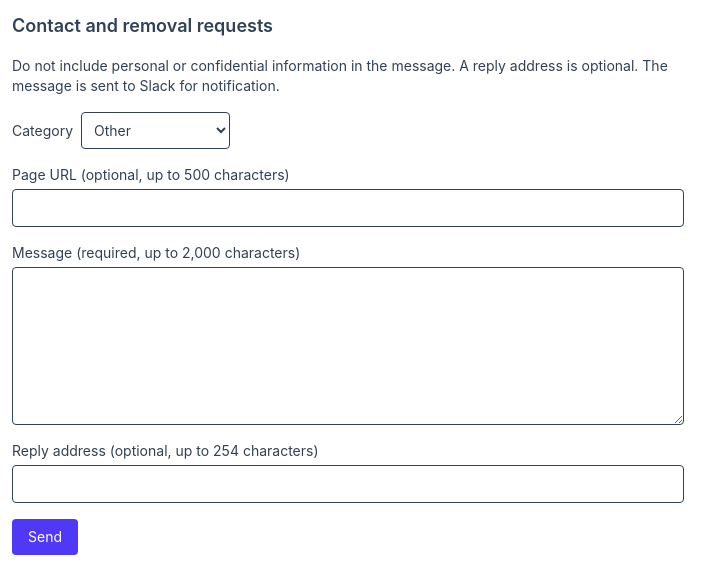
it: shows English contact consent and switches commands without changing their identity
Expected: the text "message is sent to Slack" is shown, [12, 57, 668, 94]
Step 1. Type "unsent input" into the text box labelled "Message (required, up to 2,000 characters)" → (348,346), box [12, 267, 684, 425]
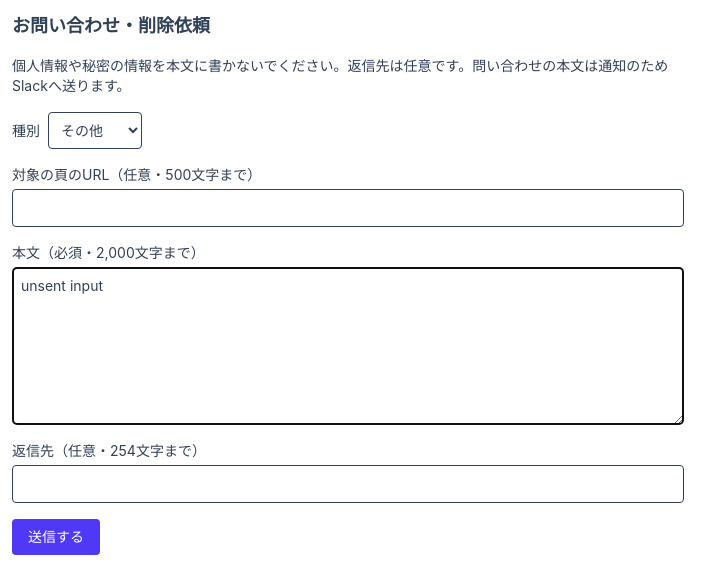
Expected: the button "送信する" is shown, [12, 519, 100, 555]
